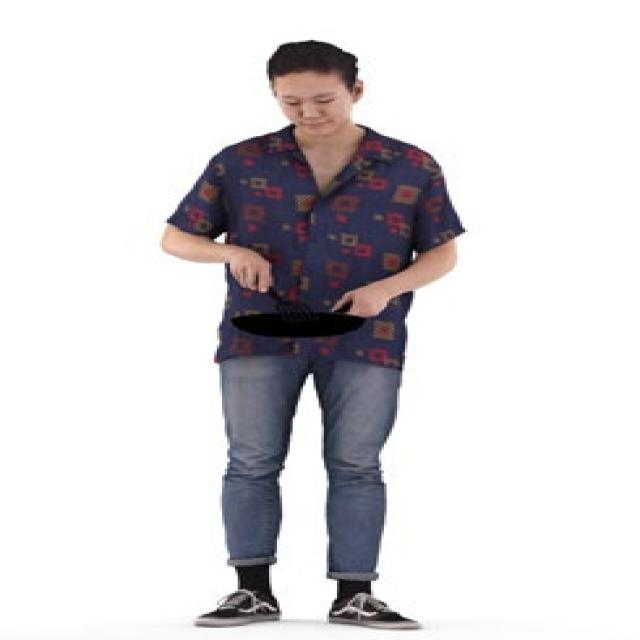standing: (152, 39, 464, 632)
